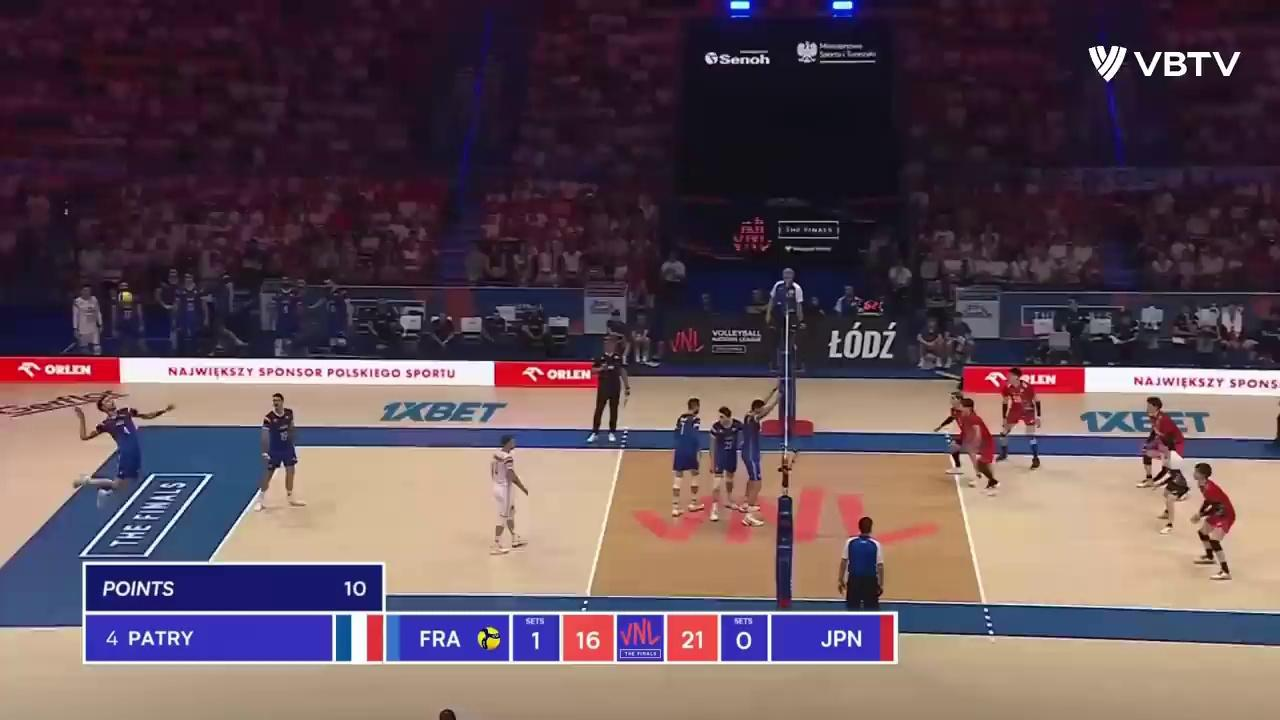ball: (117, 291, 134, 306)
